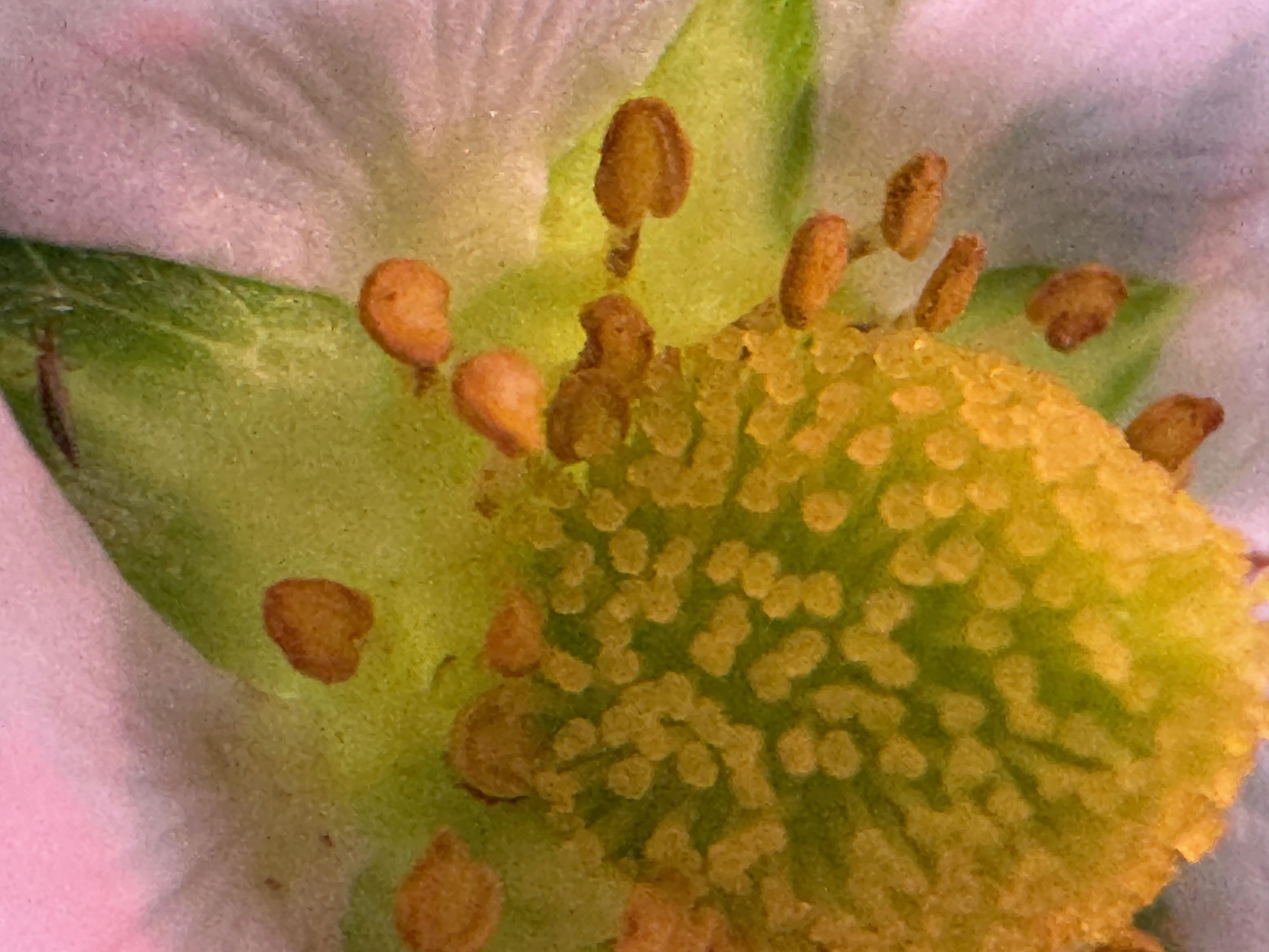tiny_pests: (0, 298, 110, 502)
